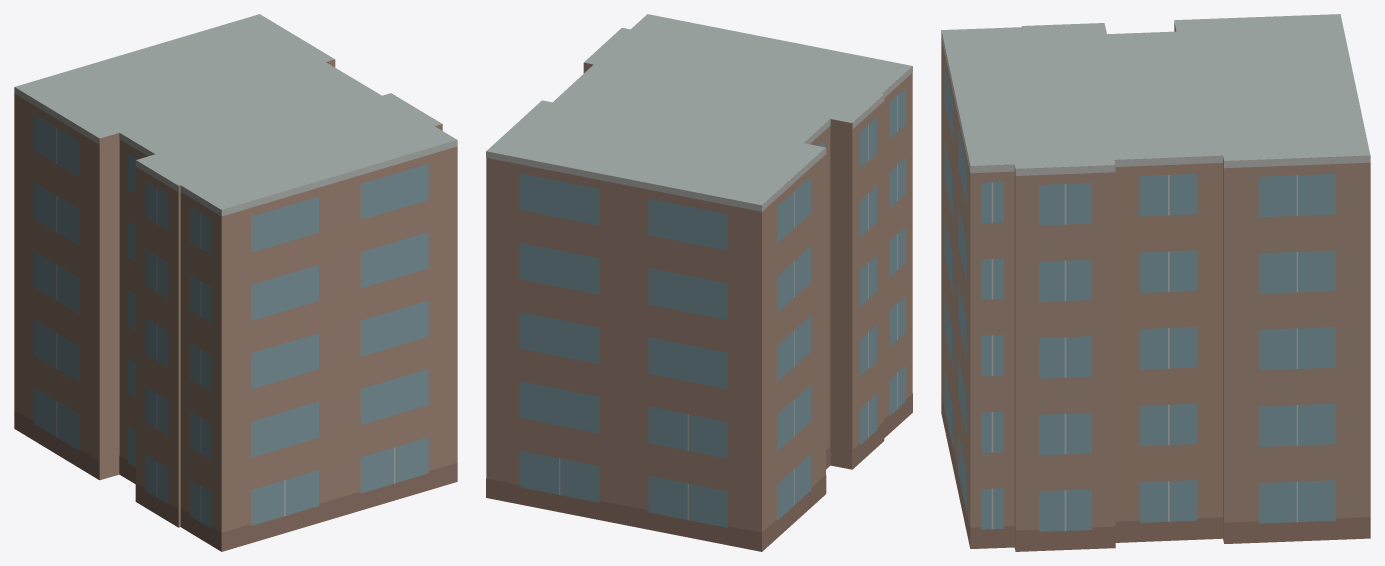
Rendered from survey-upis-32622055.glb.
3 renders of one model, left to right at view 1: azimuth 30°, elevation 25°; view 2: azimuth 150°, elevation 25°; view 3: azimuth 270°, elevation 25°, orthographic. The views are drawn at different scales.
Parts seen in each view (by area): view 1: survey-upis-32622055.tmp; view 2: survey-upis-32622055.tmp; view 3: survey-upis-32622055.tmp.
Part boxes in pixels (bbox=[...]): survey-upis-32622055.tmp: bbox=[14, 14, 457, 551]; survey-upis-32622055.tmp: bbox=[486, 14, 912, 551]; survey-upis-32622055.tmp: bbox=[941, 14, 1370, 551].
Bounding box in the file's own units: 11.33 × 13.05 × 13.26.
